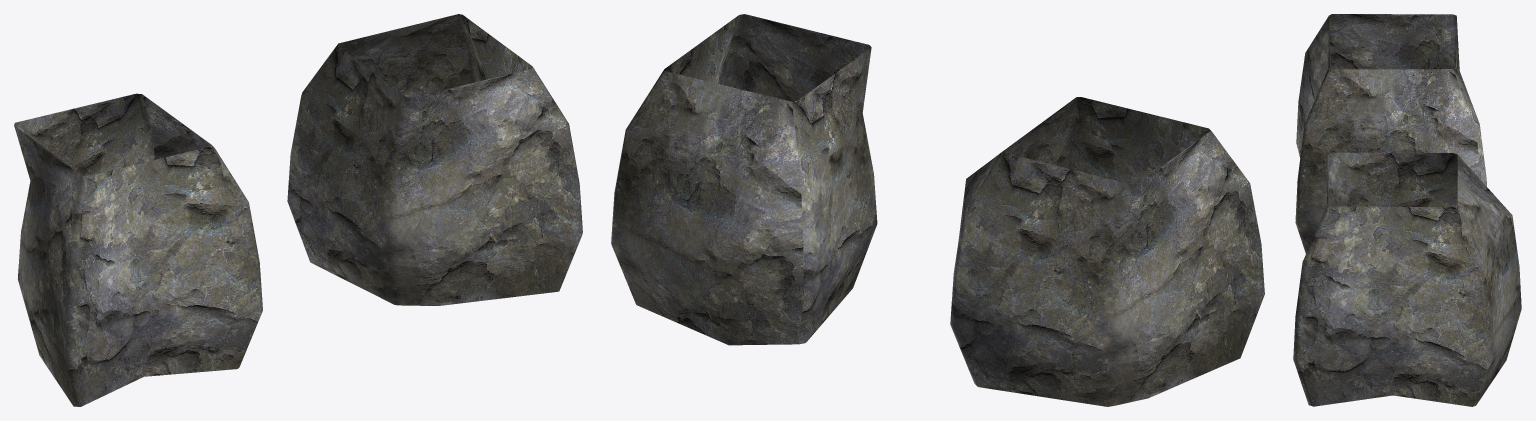
File: Cavern_MDL.fbx
The picture shows the model from 3 angles, left to right: view 1: azimuth 30°, elevation 25°; view 2: azimuth 150°, elevation 25°; view 3: azimuth 270°, elevation 25°; orthographic projection. The views are drawn at different scales.
Visible parts, largest first — view 1: TunnelBigDoorway.019; view 2: TunnelBigDoorway.019; view 3: TunnelBigDoorway.019.
Part boxes in pixels (x1,y1,x2,y2): TunnelBigDoorway.019: (14, 14, 582, 406); TunnelBigDoorway.019: (611, 14, 1264, 406); TunnelBigDoorway.019: (1293, 14, 1521, 406).
Bounding box in the file's own units: 1600 × 650 × 699.
